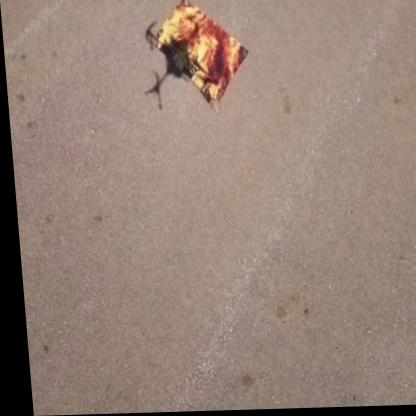fire-poster: (149, 0, 253, 117)
